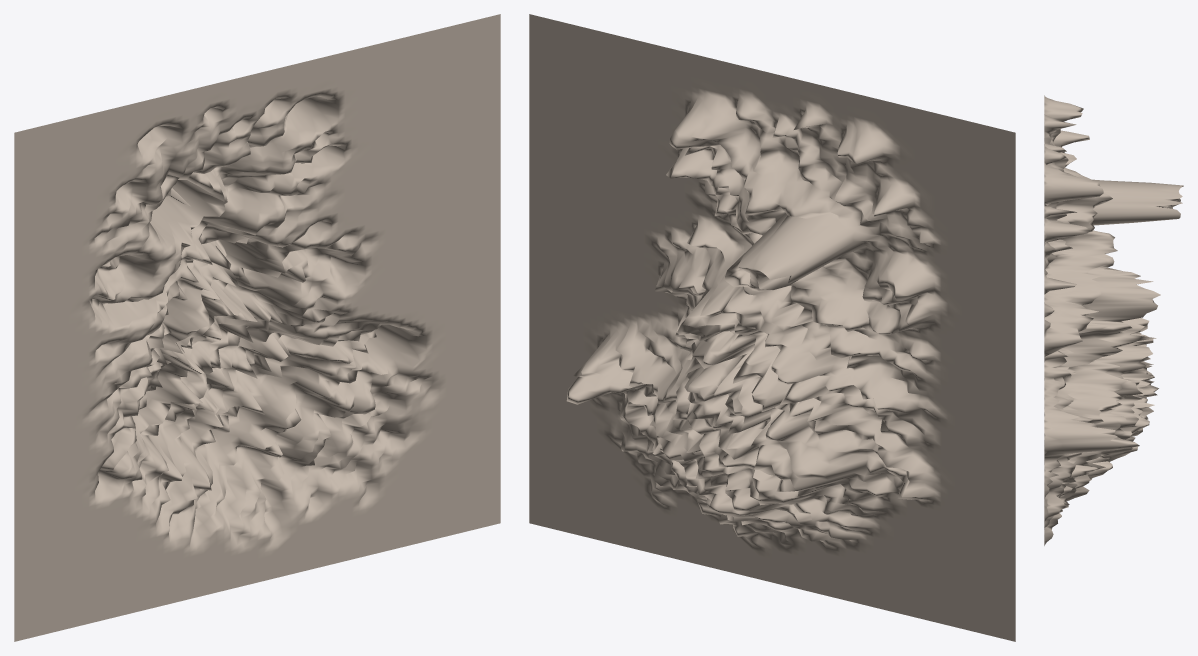
Rendered from athamu_relief.obj.
The picture shows the model from 3 angles, left to right: view 1: azimuth 30°, elevation 25°; view 2: azimuth 150°, elevation 25°; view 3: azimuth 270°, elevation 25°; orthographic projection. The views are drawn at different scales.
Size of the model in its own units: 1 by 1 by 0.2952.
